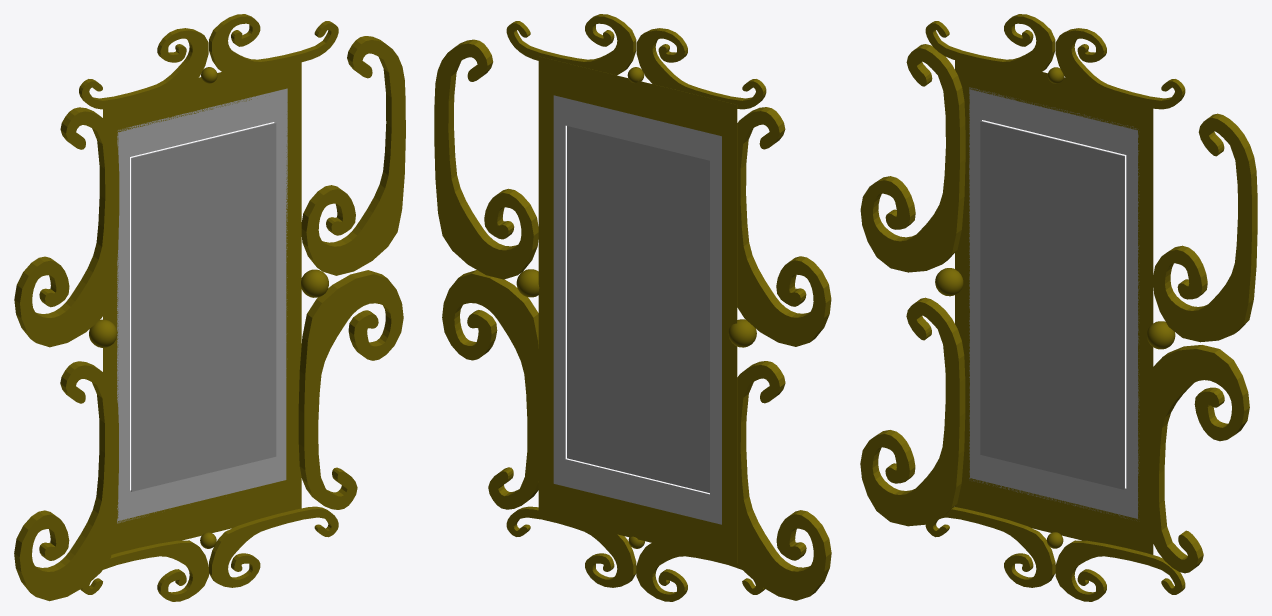
Rendered from cuadro.FBX.
3 views of the same model, side by side, from view 1: azimuth 30°, elevation 25°; view 2: azimuth 150°, elevation 25°; view 3: azimuth 330°, elevation 25° (orthographic).
Parts seen in each view (by area): view 1: Box004, Box001, Box003, Loft002, Loft001, Loft005, Loft006, Loft003, Loft007, Loft008, Loft004, Sphere001 (+1 smaller); view 2: Box004, Box001, Box003, Loft005, Loft001, Loft006, Loft002, Loft003, Loft007, Loft008, Loft004, Sphere002 (+1 smaller); view 3: Box004, Box001, Box003, Loft006, Loft005, Loft002, Loft001, Loft003, Loft007, Loft008, Loft004, Sphere002 (+1 smaller).
Part boxes in pixels (x1,y1,x2,y2): Box004: [131, 122, 276, 491]; Box001: [103, 62, 301, 554]; Box003: [117, 88, 287, 523]; Loft002: [14, 107, 119, 347]; Loft001: [298, 270, 403, 509]; Loft005: [301, 36, 405, 275]; Loft006: [14, 361, 118, 601]; Loft003: [209, 14, 338, 75]; Loft007: [79, 28, 208, 109]; Loft008: [209, 506, 338, 587]; Loft004: [80, 540, 208, 601]; Sphere001: [301, 269, 328, 297]; Box004: [567, 126, 709, 492]; Box001: [538, 56, 737, 563]; Box003: [553, 95, 721, 524]; Loft005: [434, 39, 538, 279]; Loft001: [442, 270, 538, 509]; Loft006: [737, 361, 831, 600]; Loft002: [737, 107, 831, 346]; Loft003: [506, 14, 636, 75]; Loft007: [636, 28, 766, 109]; Loft008: [506, 506, 636, 587]; Loft004: [636, 543, 764, 601]; Sphere002: [728, 319, 756, 347]; Box004: [980, 121, 1124, 489]; Box001: [955, 60, 1153, 554]; Box003: [969, 87, 1139, 520]; Loft006: [860, 297, 965, 526]; Loft005: [1152, 113, 1257, 342]; Loft002: [860, 44, 965, 272]; Loft001: [1145, 345, 1249, 573]; Loft003: [1055, 28, 1185, 109]; Loft007: [925, 14, 1055, 75]; Loft008: [1055, 540, 1185, 601]; Loft004: [925, 507, 1055, 587]; Sphere002: [935, 268, 963, 296].
Bounding box in the file's own units: 403 × 564 × 25.59.
